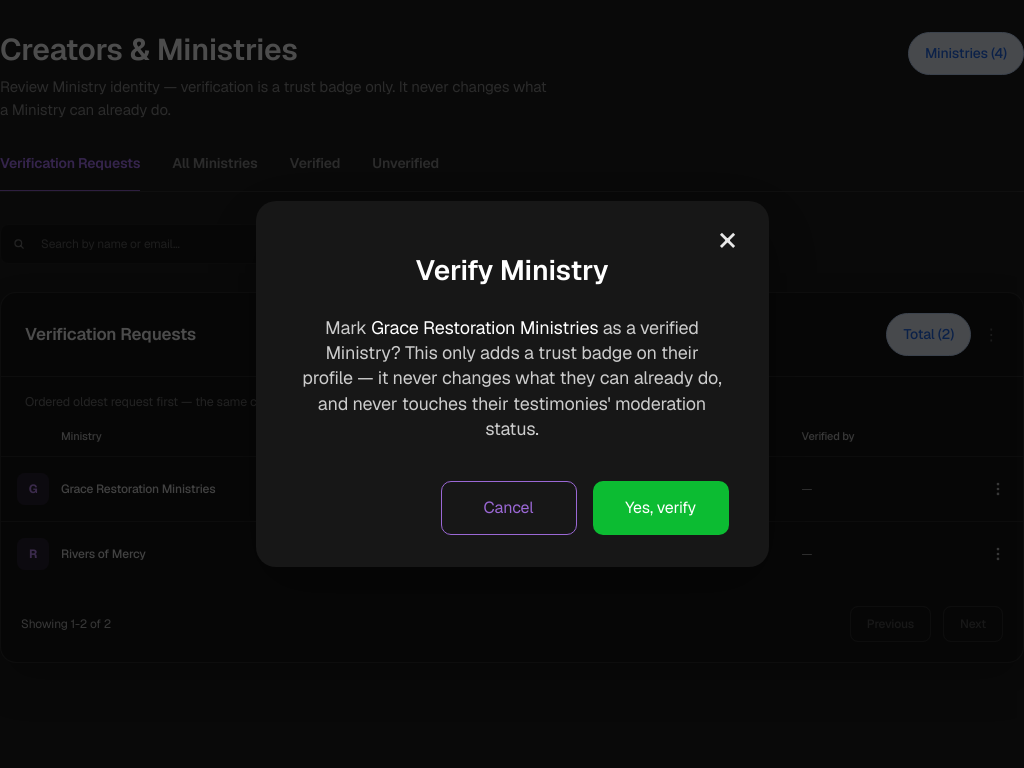
it: CreatorsMinistriesPage › closes route-opened verify modal without router navigation
The width and height of the screenshot is (1024, 768).
Click the button with aria-label "Cancel verification" at (508,508), box [440, 481, 576, 535]
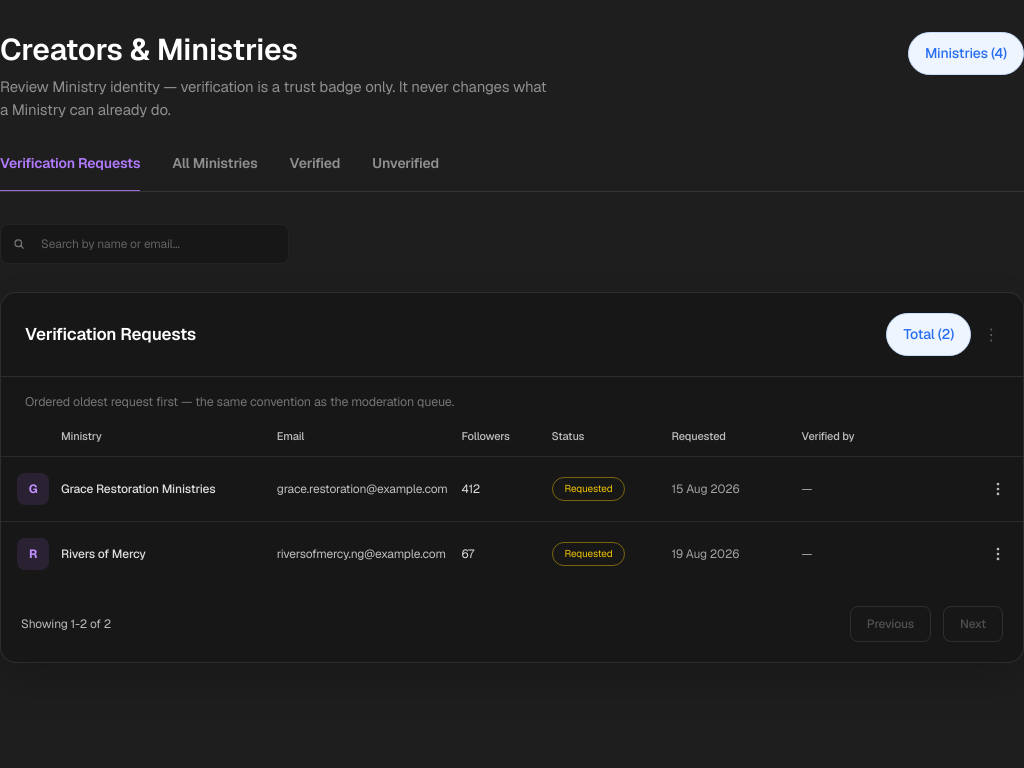
Expected: the heading "Verify Ministry" is gone
